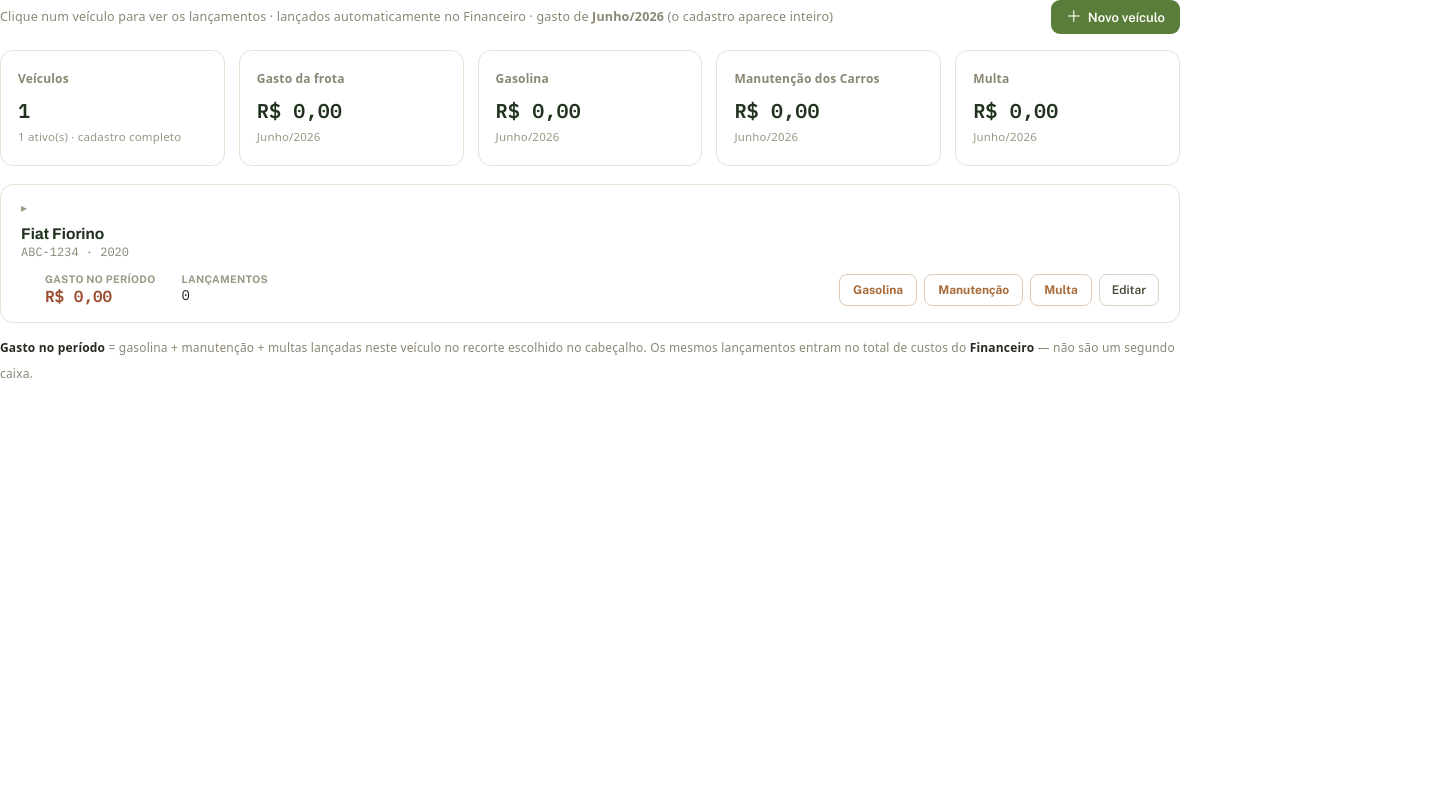
VeiculosLista — o botao abre o modal de lancamento QUE JA EXISTE, pre-preenchido › Manutenção e Multa pre-preenchem a categoria correspondente
Click the button with aria-label "Lançar manutenção": (974, 290) [924, 274, 1023, 306]
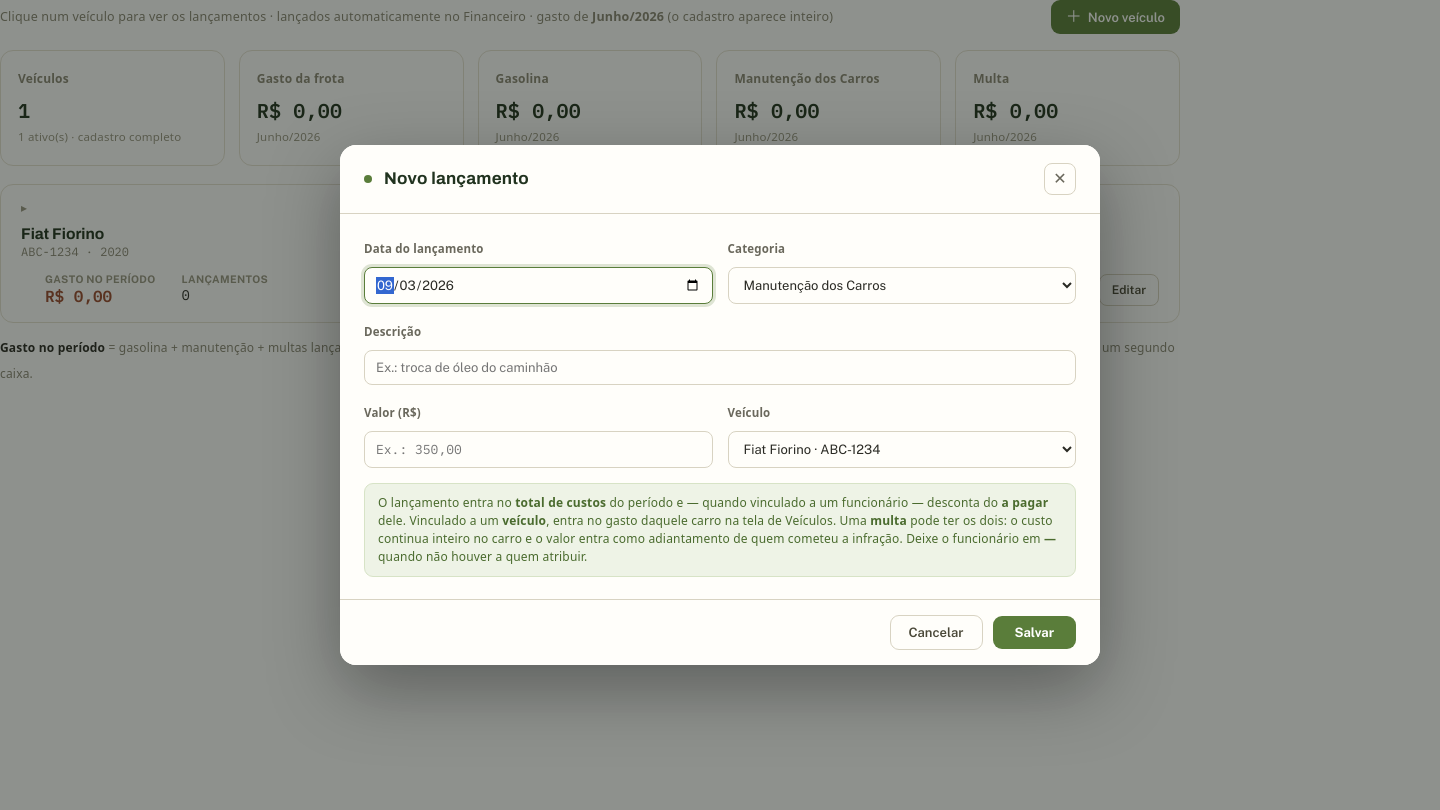
expect the dropdown labelled "Categoria" shows "Manutenção dos Carros": met, box [728, 267, 1076, 304]
Click the button "Cancelar": (936, 633) [890, 615, 982, 650]
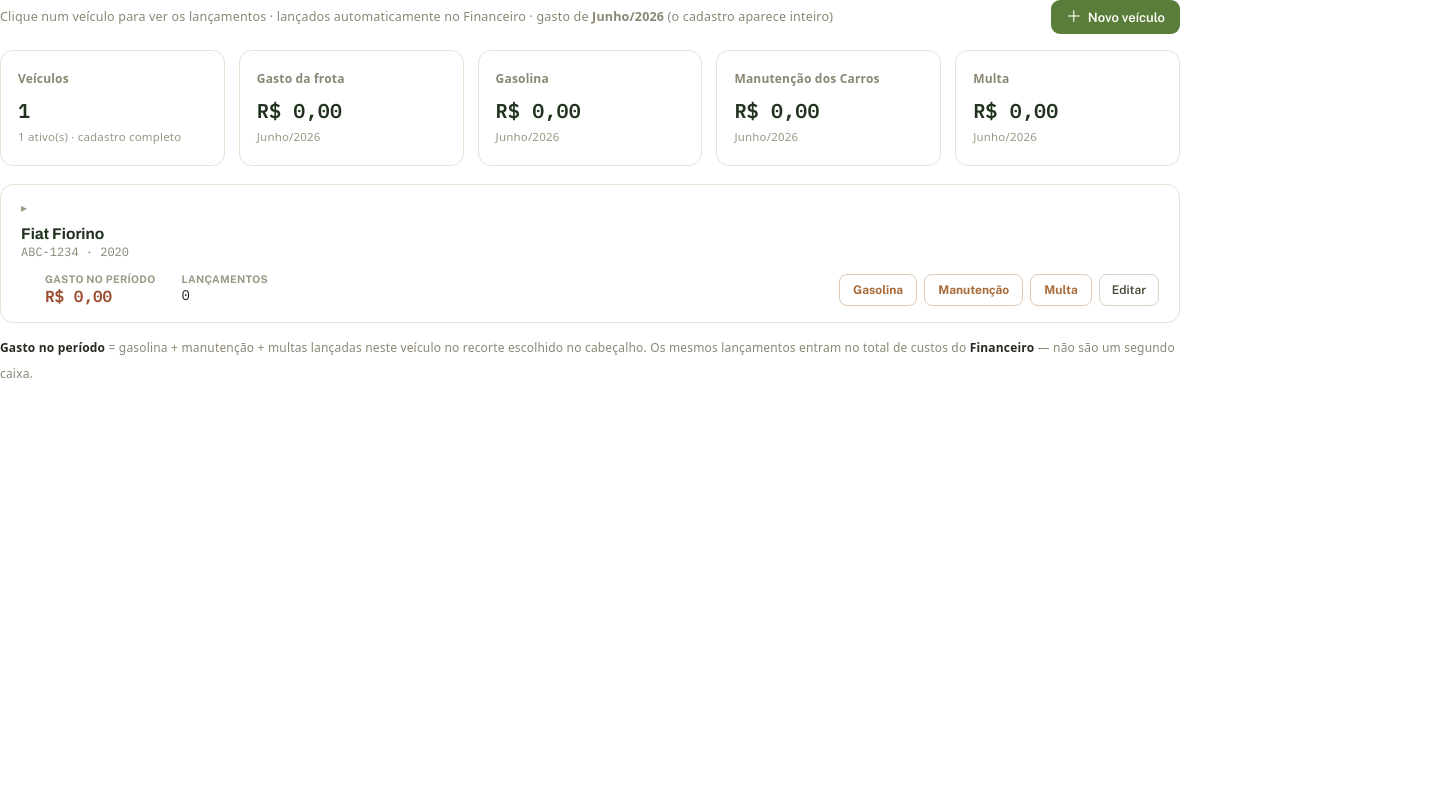
Click the button with aria-label "Lançar multa": (1061, 290) [1030, 274, 1092, 306]
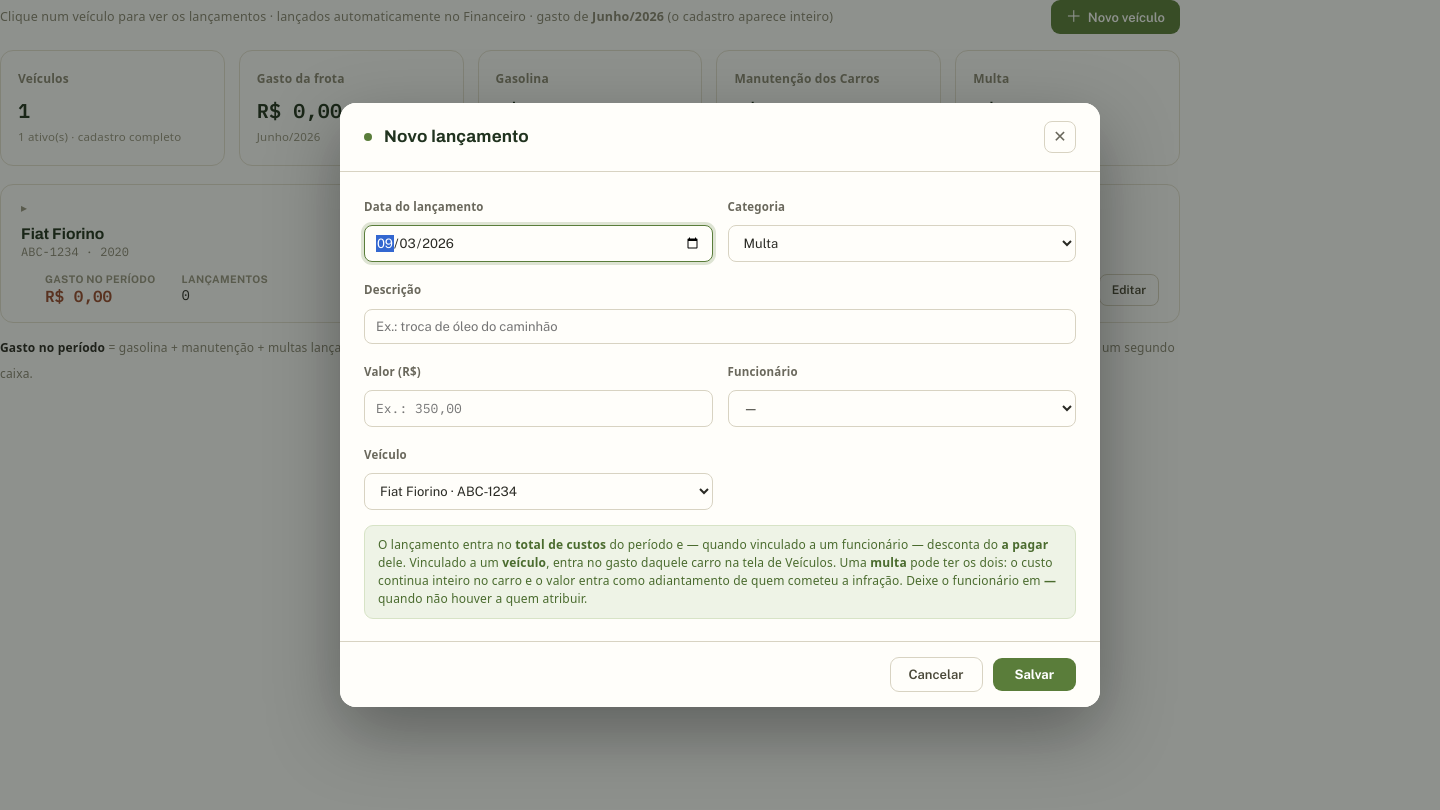
expect the dropdown labelled "Categoria" shows "Multa": met, box [728, 225, 1076, 262]
